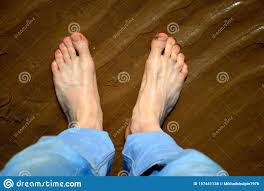Feet: (124, 31, 189, 139), (49, 31, 104, 135)
